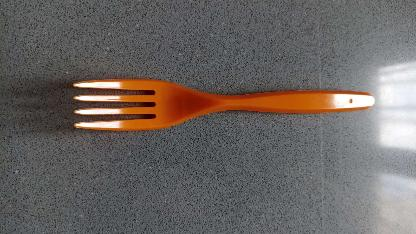Others: (73, 76, 377, 132)
